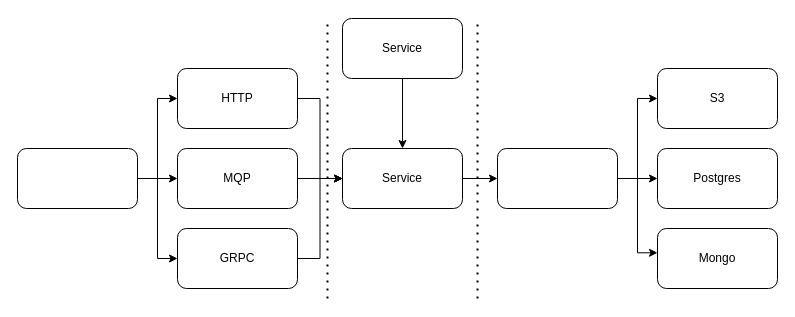
This 795x317 diagram has some shape labels left out. Each missing label, with the centre of its shape:
"Gateway" goes at (77,178).
"Storage" goes at (557,178).
